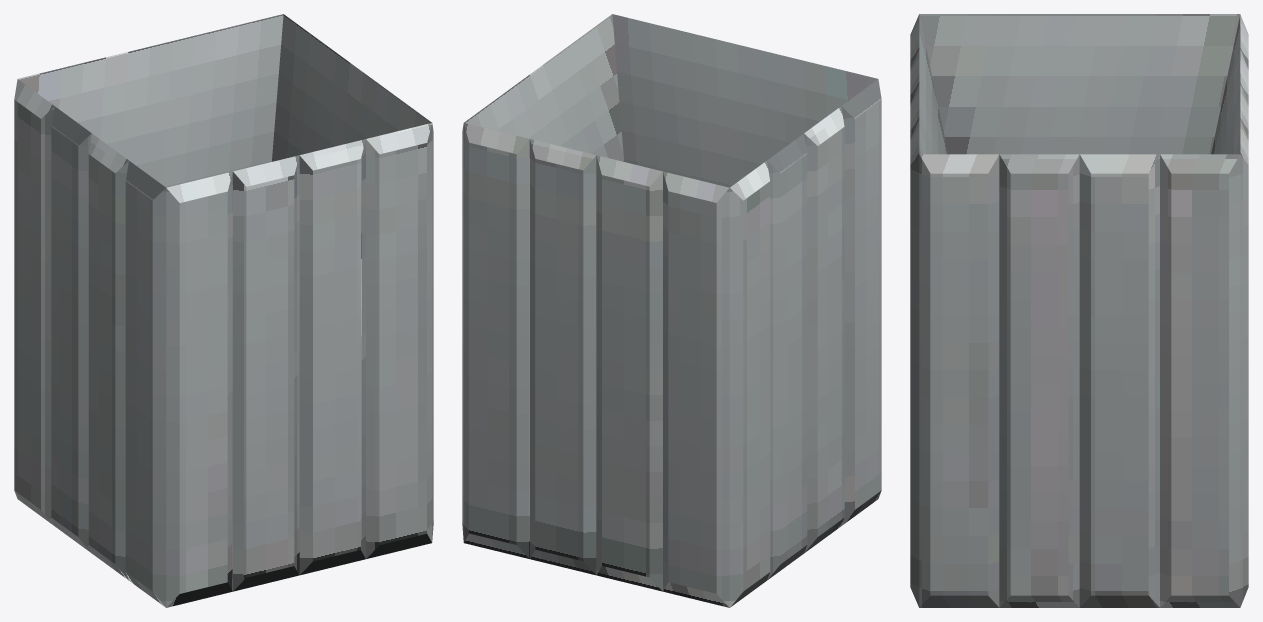
Rendered from trash.glb.
3 views of the same model, side by side, from view 1: azimuth 30°, elevation 25°; view 2: azimuth 150°, elevation 25°; view 3: azimuth 270°, elevation 25° (orthographic). The views are drawn at different scales.
Visible parts, largest first — view 1: Cube; view 2: Cube; view 3: Cube.
Part boxes in pixels (x1=…): Cube: x1=14, y1=14, x2=433, y2=607; Cube: x1=462, y1=14, x2=881, y2=607; Cube: x1=910, y1=14, x2=1248, y2=607.
Bounding box in the file's own units: 2.63 × 3.76 × 2.54.
Materials: 1 (1 with a texture image).
